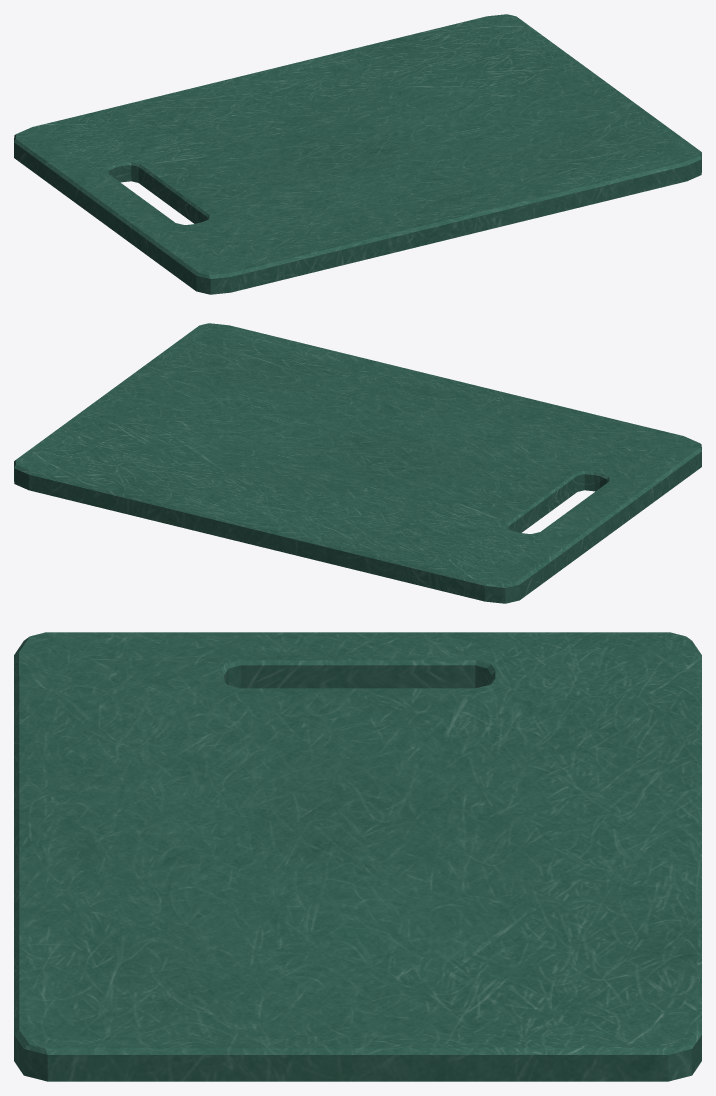
Rendered from chopping_board.fbx.
3 views of the same model, one above another, from view 1: azimuth 30°, elevation 25°; view 2: azimuth 150°, elevation 25°; view 3: azimuth 270°, elevation 25° (orthographic). The views are drawn at different scales.
Visible parts, largest first — view 1: chopping_board; view 2: chopping_board; view 3: chopping_board.
Boxes of the visible parts, left/top/right/bottom form: chopping_board: left=14, top=14, right=701, bottom=294; chopping_board: left=14, top=323, right=701, bottom=603; chopping_board: left=14, top=632, right=701, bottom=1081.
Bounding box in the file's own units: 2.44 × 0.0842 × 1.69.
